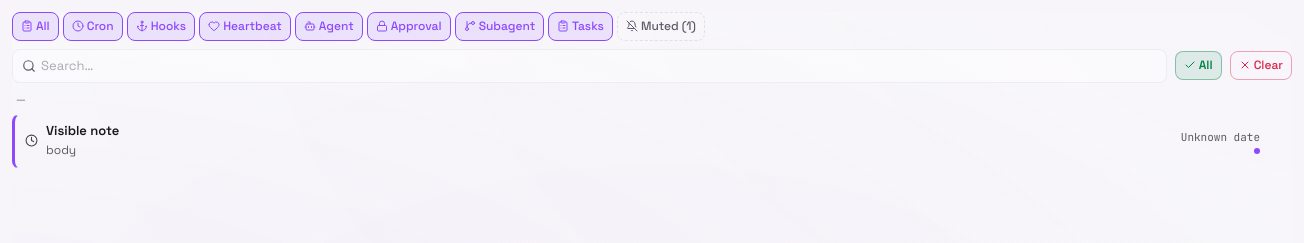
NotificationFeed Phase 3: silenced (muted-channel) rows › hides silenced rows by default and reveals them via the Muted chip
This screenshot has width=1304, height=243.
Expected: the text "Visible note" is shown, [46,122,119,139]
Expected: the text "Muted note" is not shown
Click the button "Muted (1)": [661, 26] box [617,12,705,41]
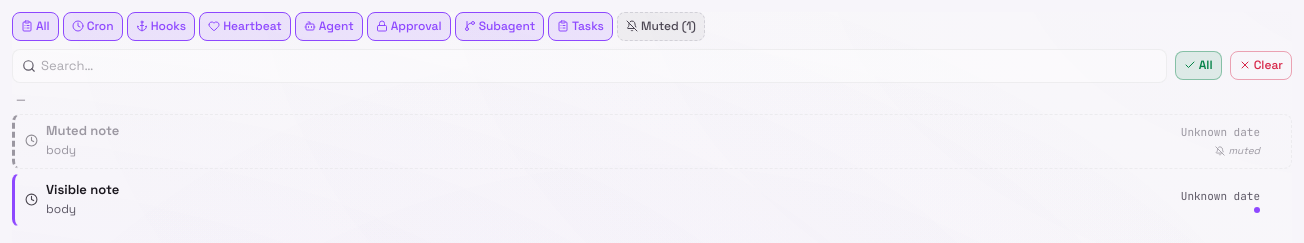
Now the text "Muted note" is shown, box [46,122,119,139]
Click the button "Muted (1)": [661, 26] box [617,12,705,41]
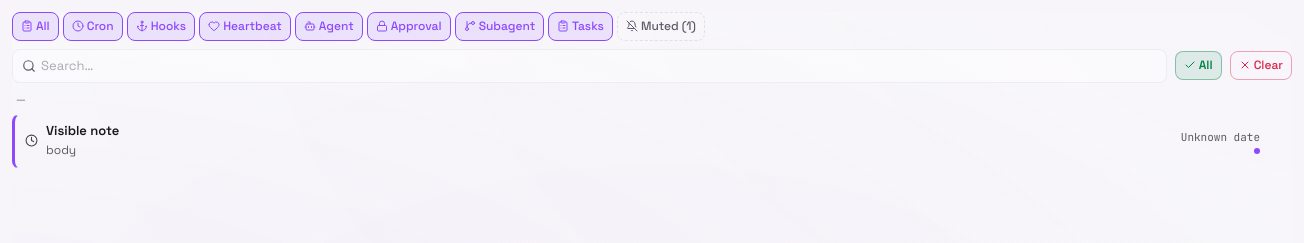
Now the button "Muted note" is gone
